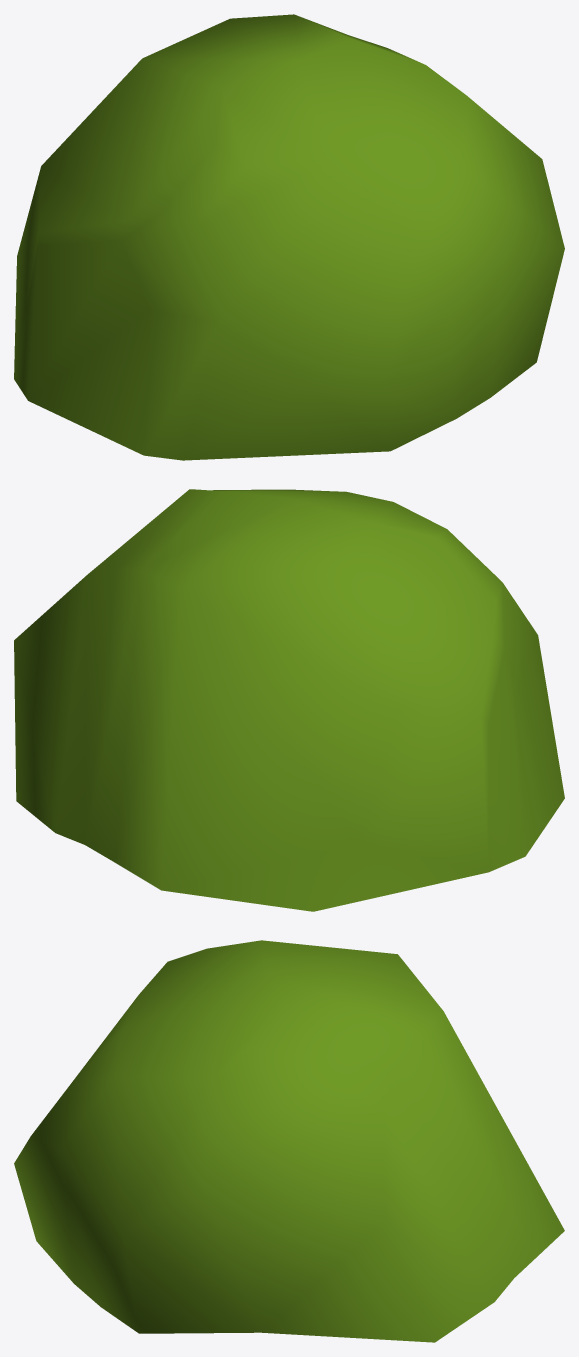
Rendered from candle_stone1.fbx.
3 views of the same model, one above another, from view 1: azimuth 30°, elevation 25°; view 2: azimuth 150°, elevation 25°; view 3: azimuth 270°, elevation 25° (orthographic). The views are drawn at different scales.
Visible parts, largest first — view 1: stonegreen1_low; view 2: stonegreen1_low; view 3: stonegreen1_low.
Part boxes in pixels (x1,y1,x2,y2): stonegreen1_low: [14, 14, 564, 460]; stonegreen1_low: [14, 489, 564, 911]; stonegreen1_low: [14, 940, 564, 1342].
Bounding box in the file's own units: 4873 × 5063 × 2917.
